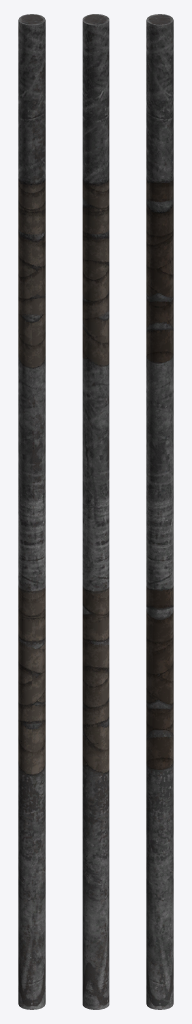
File: sm_uruk_halberd_handle_a1.fbx
The picture shows the model from 3 angles, left to right: view 1: azimuth 90°, elevation 25°; view 2: azimuth 150°, elevation 25°; view 3: azimuth 270°, elevation 25°; orthographic projection.
Visible parts, largest first — view 1: sm_uruk_halberd_handle_a1; view 2: sm_uruk_halberd_handle_a1; view 3: sm_uruk_halberd_handle_a1.
Boxes of the visible parts, x1,y1,x2,y2 form: sm_uruk_halberd_handle_a1: (18,14,45,1009); sm_uruk_halberd_handle_a1: (82,14,109,1009); sm_uruk_halberd_handle_a1: (146,14,173,1009).
Size of the model in its own units: 0.04 by 0.04 by 1.6.
Materials: 1 (1 with a texture image).
